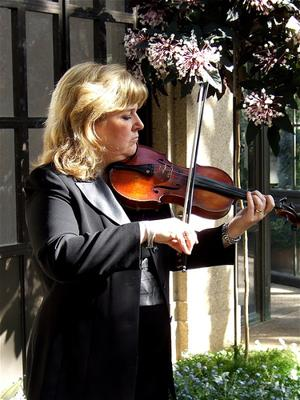person: (26, 61, 276, 400)
